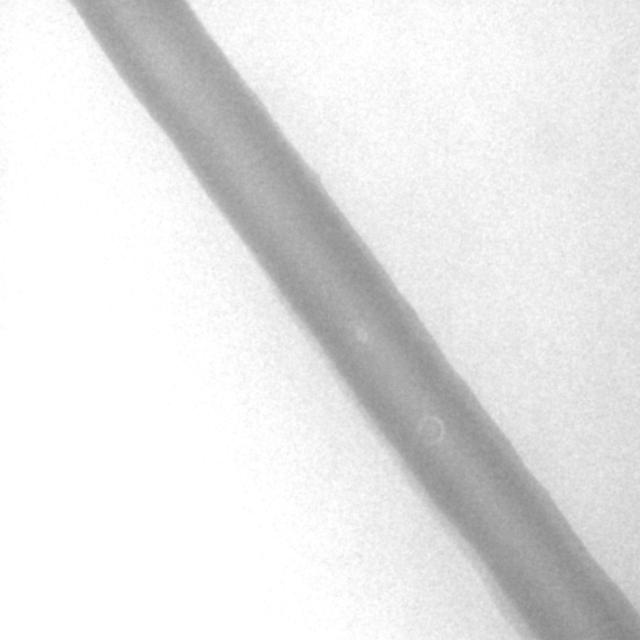hollow bead: (414, 415, 444, 449)
